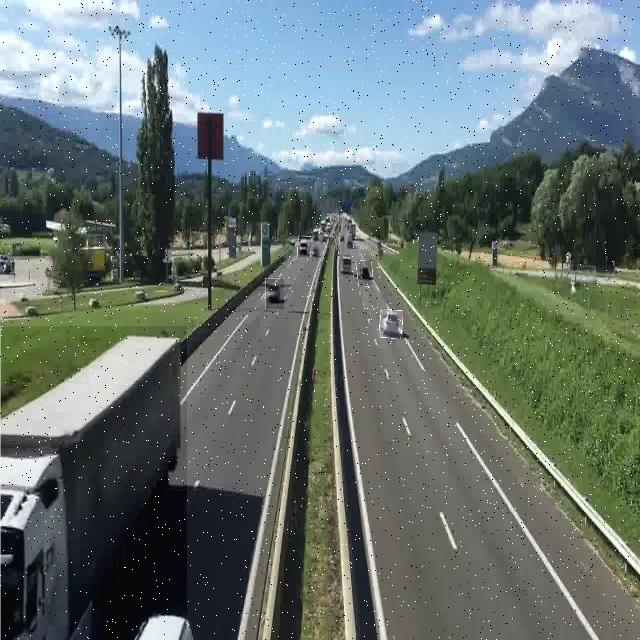Car: (379, 310, 403, 338), (265, 278, 284, 309), (357, 260, 372, 287), (338, 256, 354, 280), (298, 236, 311, 257)
Truck: (0, 326, 187, 640)
